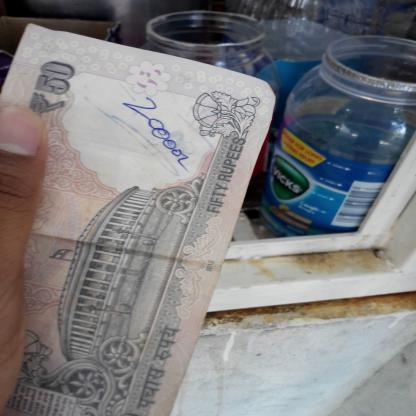Old50Back: (0, 23, 275, 416)
